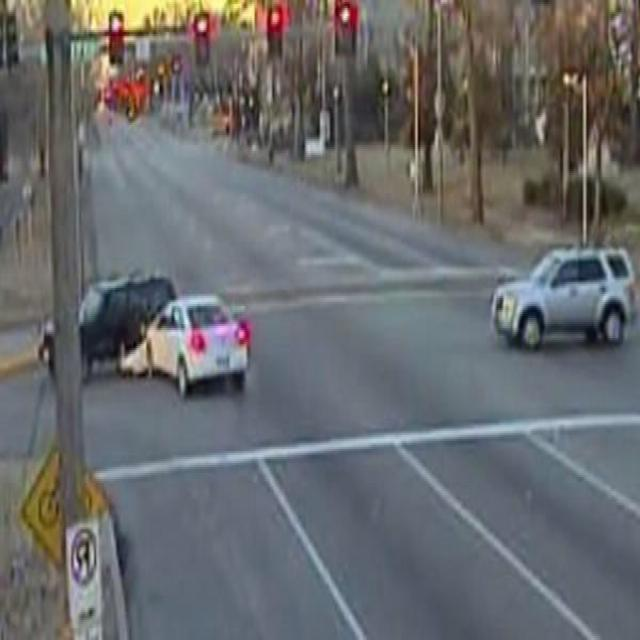multiple_accident: (59, 253, 216, 386)
